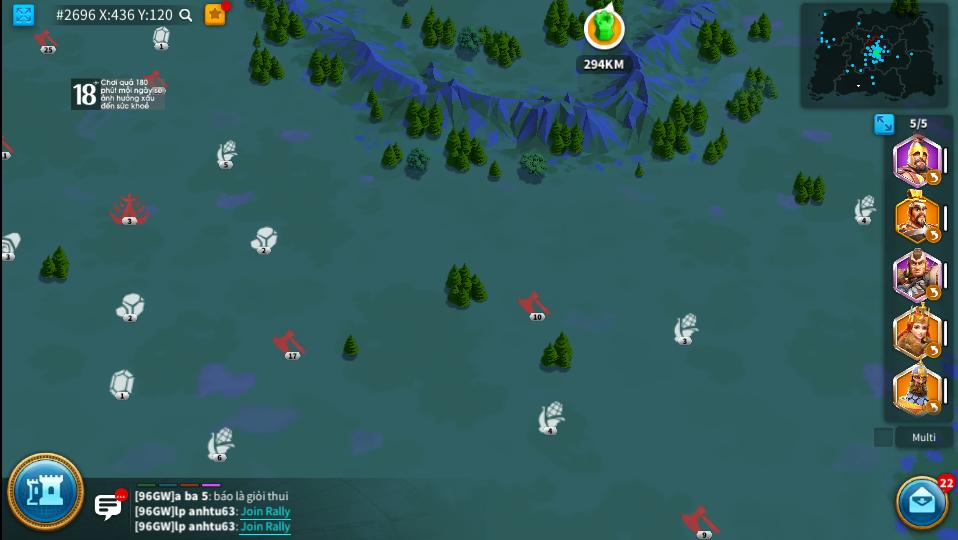gem-z-out: (110, 370, 135, 402), (152, 27, 172, 50)
march_returning: (925, 228, 942, 242), (926, 170, 940, 185), (927, 400, 941, 415), (926, 285, 940, 299), (928, 343, 940, 357)
